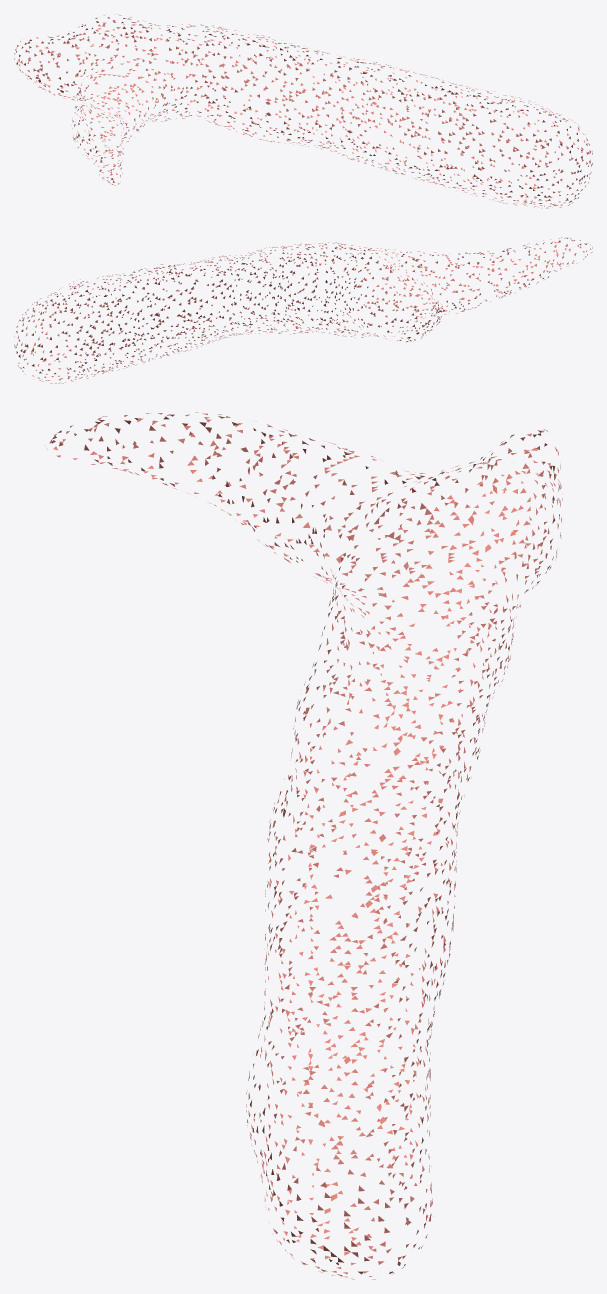
File: morph_001.glb
3 views of the same model, one above another, from view 1: azimuth 30°, elevation 25°; view 2: azimuth 150°, elevation 25°; view 3: azimuth 270°, elevation 25° (orthographic). The views are drawn at different scales.
Bounding box in the file's own units: 123 × 54.06 × 55.7.
